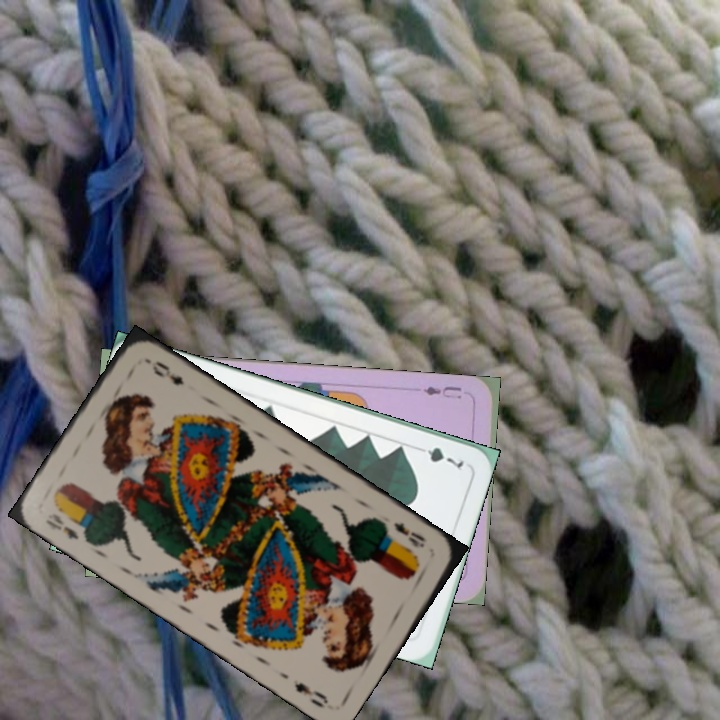EO: (41, 509, 82, 542), (389, 517, 428, 551)
EU: (419, 382, 464, 401)
G7: (411, 442, 467, 471)
